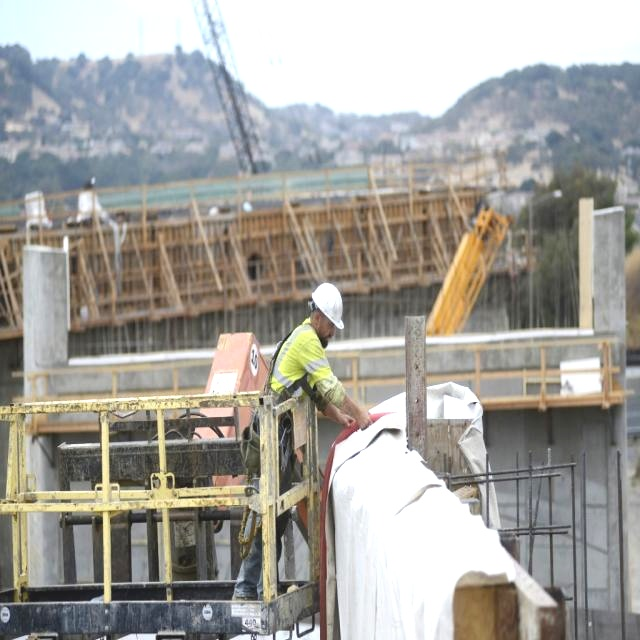Con_Casco: (312, 281, 344, 345)
